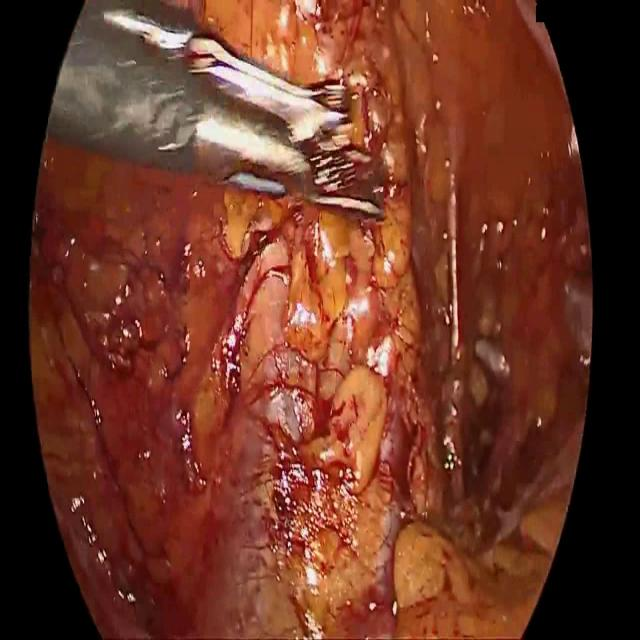surgical-area: (28, 0, 592, 639)
surgical-tool: (44, 0, 386, 215)
